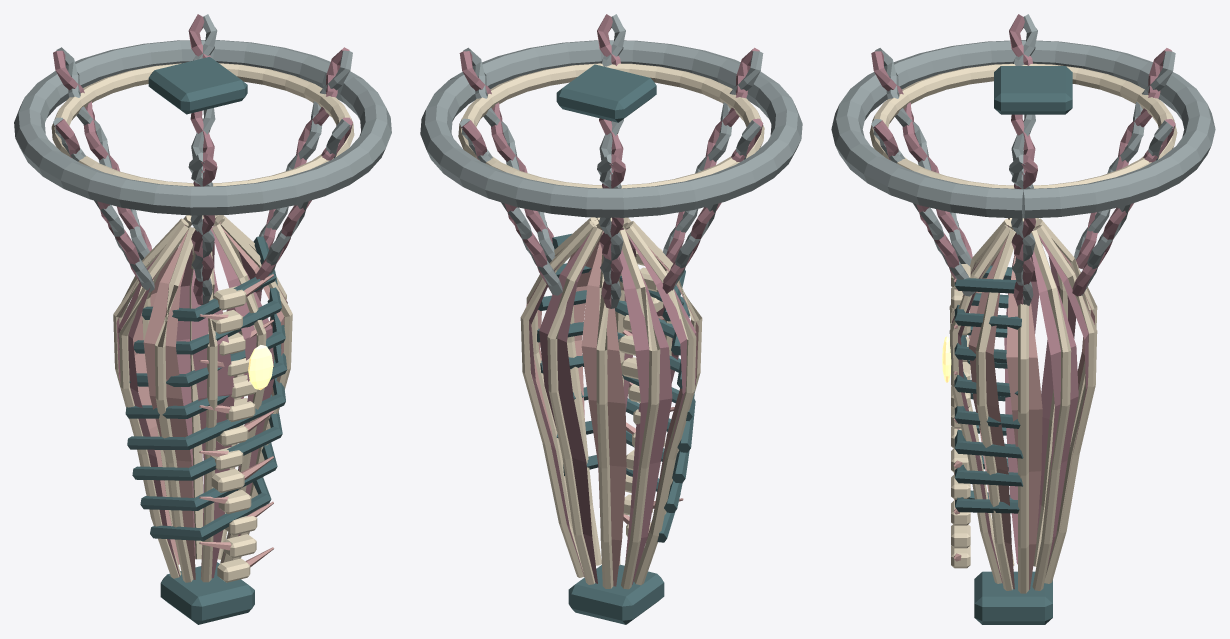
The model's file is suspended_cadaver.glb.
3 renders of one model, left to right at view 1: azimuth 30°, elevation 25°; view 2: azimuth 150°, elevation 25°; view 3: azimuth 270°, elevation 25°, orthographic.
Parts seen in each view (by area): view 1: suspended_cadaver_worn, suspended_cadaver_warm, suspended_cadaver_petrol, suspended_cadaver_bruised, suspended_cadaver_suture, suspended_cadaver_sick; view 2: suspended_cadaver_warm, suspended_cadaver_worn, suspended_cadaver_bruised, suspended_cadaver_petrol, suspended_cadaver_suture; view 3: suspended_cadaver_worn, suspended_cadaver_warm, suspended_cadaver_bruised, suspended_cadaver_petrol, suspended_cadaver_suture.
Part boxes in pixels (bbox=[...]): suspended_cadaver_worn: bbox=[14, 14, 391, 304]; suspended_cadaver_warm: bbox=[51, 63, 354, 582]; suspended_cadaver_petrol: bbox=[125, 56, 287, 624]; suspended_cadaver_bruised: bbox=[53, 14, 352, 578]; suspended_cadaver_suture: bbox=[133, 222, 287, 579]; suspended_cadaver_sick: bbox=[248, 345, 273, 390]; suspended_cadaver_warm: bbox=[458, 63, 764, 589]; suspended_cadaver_worn: bbox=[420, 14, 802, 308]; suspended_cadaver_bruised: bbox=[459, 14, 763, 584]; suspended_cadaver_petrol: bbox=[537, 64, 695, 624]; suspended_cadaver_suture: bbox=[526, 220, 698, 586]; suspended_cadaver_worn: bbox=[831, 14, 1215, 305]; suspended_cadaver_warm: bbox=[869, 63, 1177, 593]; suspended_cadaver_bruised: bbox=[871, 14, 1175, 583]; suspended_cadaver_petrol: bbox=[954, 66, 1072, 624]; suspended_cadaver_suture: bbox=[953, 225, 1094, 589].
Bounding box in the file's own units: 1.96 × 3 × 1.96.
